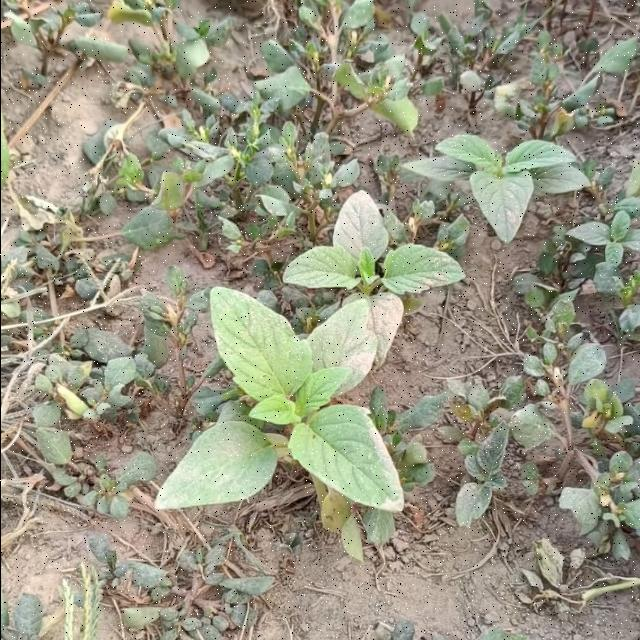plant: (156, 191, 464, 557), (407, 136, 585, 241)
